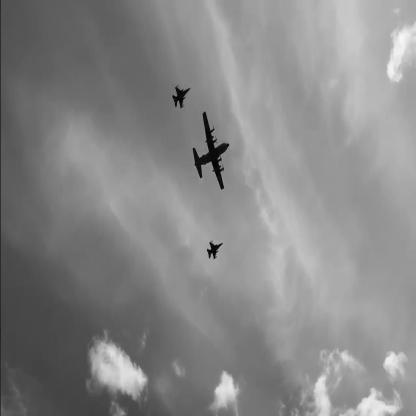C130: (194, 112, 231, 190)
F16: (173, 85, 192, 110), (208, 241, 225, 261)
